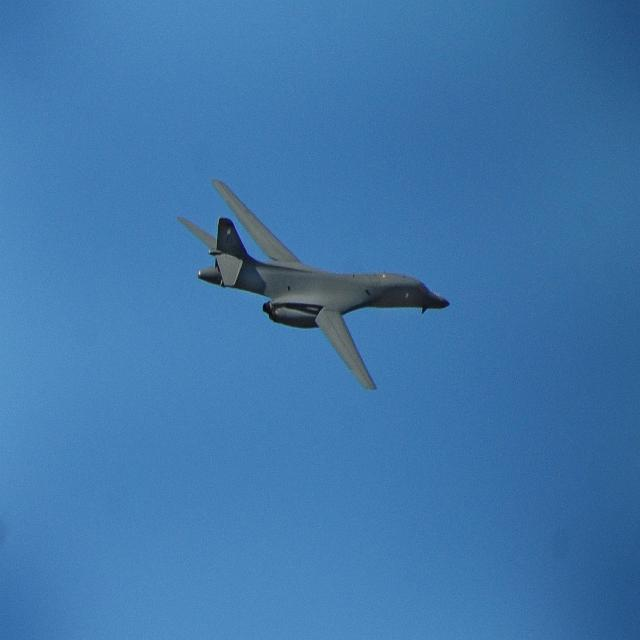MIL_Plane: (175, 179, 451, 390)
